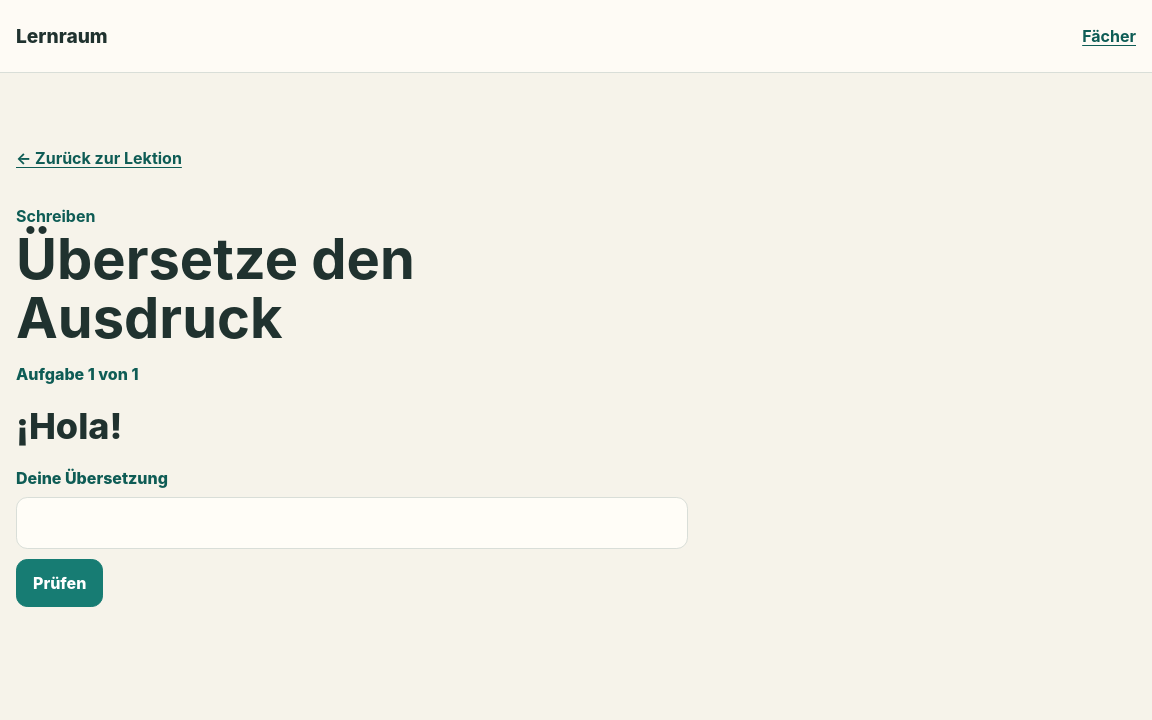
Test: WritingMode › clears the completed session and shows a shared result summary
Type "Hallo" into the field labelled "Deine Übersetzung" at (352, 523), box [16,497,688,549]
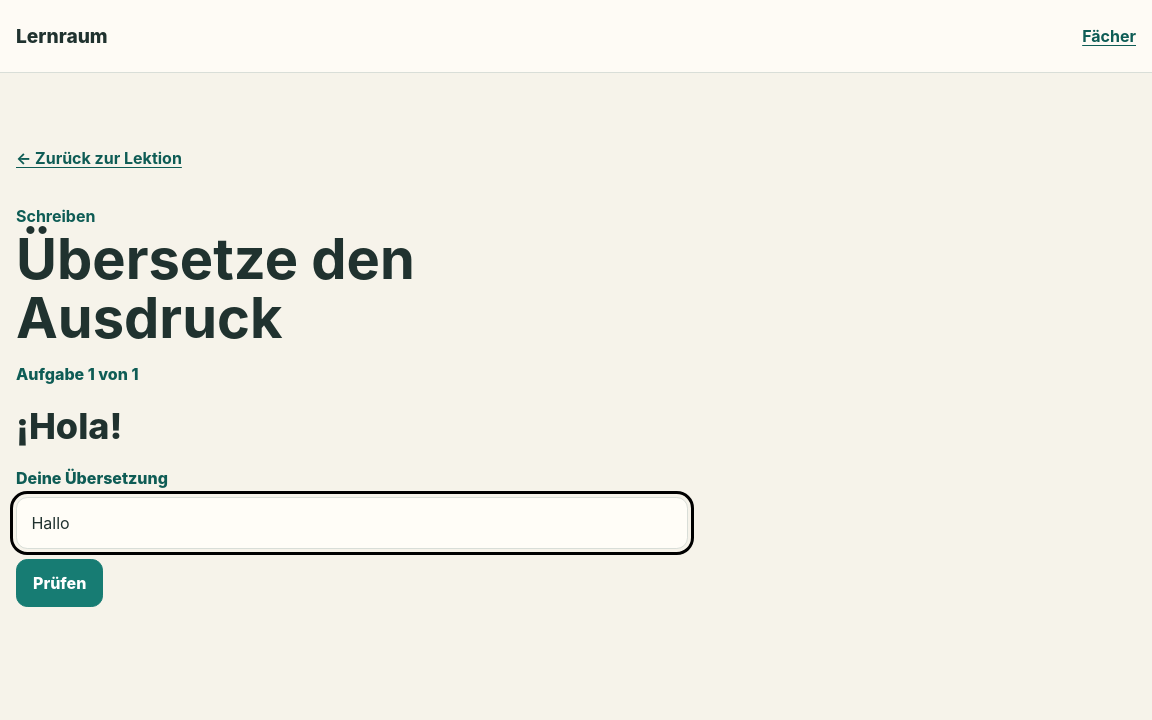
Click the button "Prüfen" at (60, 583), box [16,559,103,607]
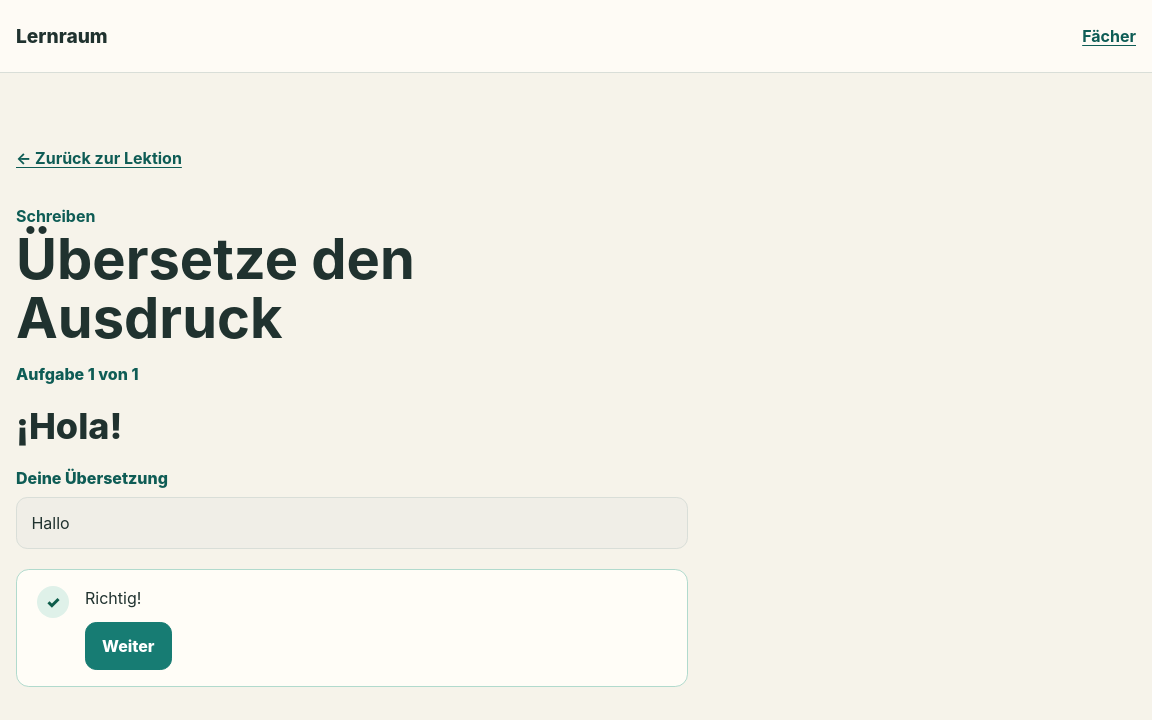
Click the button "Weiter" at (128, 646), box [85,622,172,670]
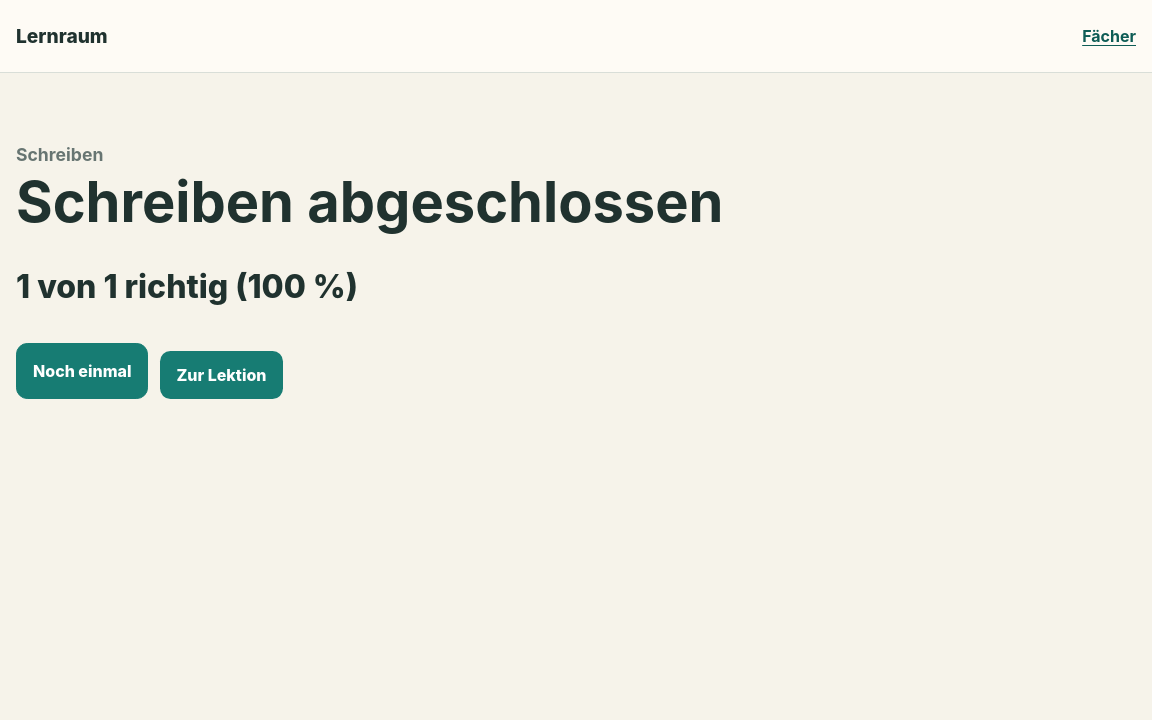
Check: the link "Zur Lektion" is shown, box [160,351,282,399]
Check: the heading "Schreiben abgeschlossen" is shown, box [16,172,771,231]
Check: the text "1 von 1 richtig (100 %)" is shown, box [16,267,358,306]
